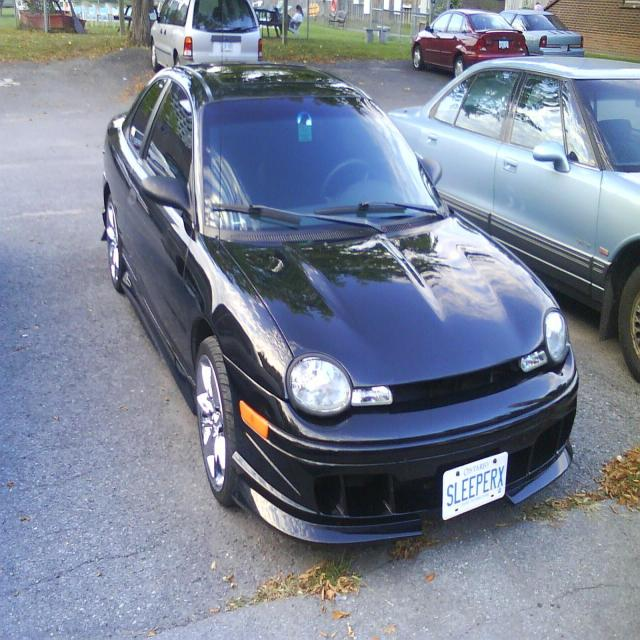Car: (90, 84, 586, 546)
